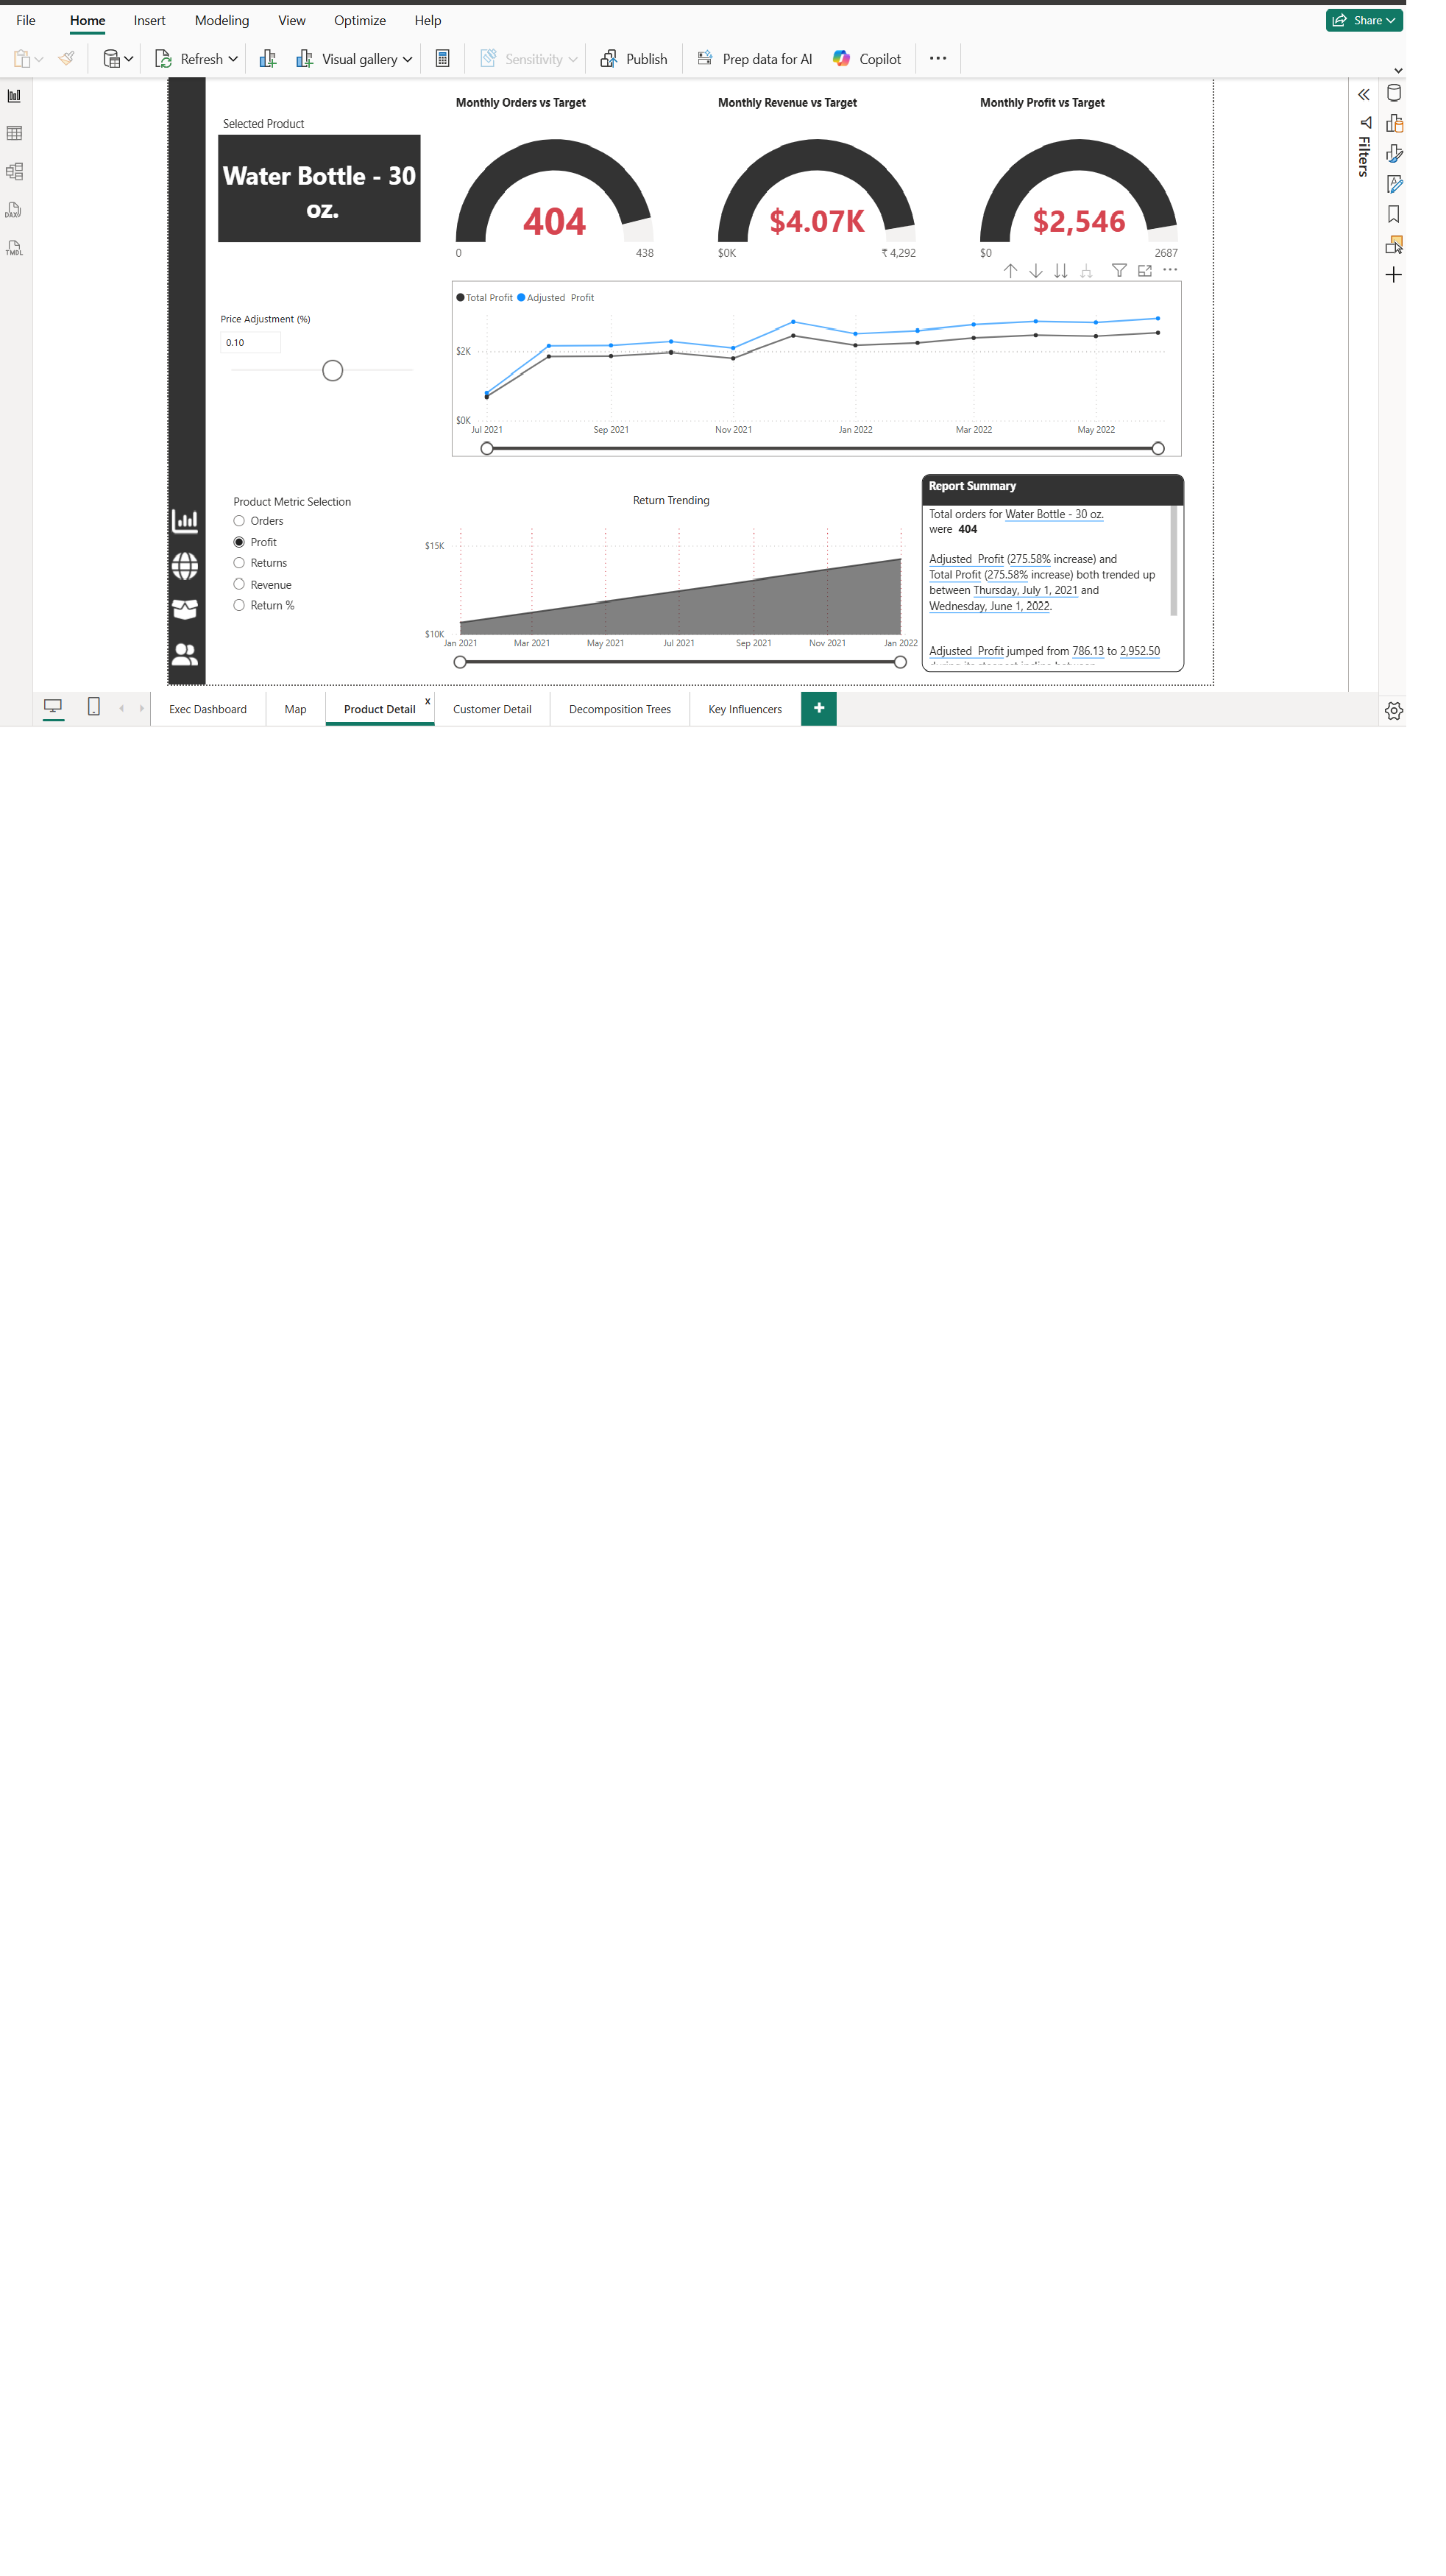

This screenshot's page, from the dashboard's own definition file:
{"tool":"powerbi","page":{"name":"Product Detail","canvas":[1280,720],"ordinal":2},"visuals":[{"type":"gauge","title":"Monthly Orders vs Target","fields":{"MaxValue":["Measure Table.Order Target"],"Y":["Measure Table.Total Orders"]},"box":[347.7,20.2,252.7,226],"z":0},{"type":"actionButton","box":[0,506.4,42.8,40.4],"z":0,"group":"g1"},{"type":"gauge","title":"Monthly Revenue vs Target","fields":{"MaxValue":["Measure Table.Revenue Target"],"Y":["Measure Table.Total Revenue"]},"box":[668.6,20.2,252.7,226],"z":1000},{"type":"actionButton","box":[0,559,42.8,40.4],"z":1000,"group":"g1"},{"type":"gauge","title":"Monthly Profit vs Target","fields":{"MaxValue":["Measure Table.profit Target"],"Y":["Measure Table.Total Profit"]},"box":[989.6,20.2,252.7,226],"z":2000},{"type":"actionButton","box":[0,611.6,42.8,40.4],"z":2000,"group":"g1"},{"type":"lineChart","title":"Profit Trending","fields":{"Category":["Calendar Lookup.Date Hierarchy.Start of Year","Calendar Lookup.Date Hierarchy.Start of Month","Calendar Lookup.Date Hierarchy.Start of Week","Calendar Lookup.Date Hierarchy.Date"],"Y":["Measure Table.Total Profit","Measure Table.Adjusted  Profit"]},"box":[347.7,240.9,894.5,209.2],"z":3000},{"type":"actionButton","box":[0,664.1,42.8,40.4],"z":3000,"group":"g1"},{"type":"areaChart","title":"Return Trending","fields":{"Category":["Calendar Lookup.Date Hierarchy.Start of Year","Calendar Lookup.Date Hierarchy.Start of Month","Calendar Lookup.Date Hierarchy.Start of Week","Calendar Lookup.Date Hierarchy.Date"],"Y":["Measure Table.Total Profit"]},"box":[308.8,492,614.6,212.1],"z":4000},{"type":"actionButton","box":[0,0,100,40],"z":5000},{"type":"shape","title":"Left Nav Background","box":[0,0,45.5,719.6],"z":6000},{"type":"card","fields":{"Values":["Min(Product Lookup.ProductName)"]},"box":[60.6,67.8,248.2,127],"z":7000},{"type":"textbox","box":[62,40.4,145.7,31.7],"z":8000},{"type":"group","id":"g1","title":"Navigation Buttons","box":[0,506.4,43.3,197.7],"z":9000},{"type":"slicer","fields":{"Values":["Price Adjustment (%).Price Adjustment (%)"]},"box":[50.5,272.7,271.5,147.6],"z":10000},{"type":"slicer","fields":{"Values":["Product Metric Selection.Product Metric Selection"]},"box":[66.4,487.7,242.1,165.1],"z":11000},{"type":"textbox","title":"Report Summary","box":[923.2,469.6,321.6,234.8],"z":12000}]}

Visuals, with their boxes on the page's 1280x720 design canvas (x1, y1, x2, y2). These are canvas units, not pixel positions in the 1446x2576 screenshot, which may show the page scaled, cropped or inside an application window:
"Monthly Orders vs Target" gauge: left=348, top=20, right=600, bottom=246
actionButton: left=0, top=506, right=43, bottom=547
"Monthly Revenue vs Target" gauge: left=669, top=20, right=921, bottom=246
actionButton: left=0, top=559, right=43, bottom=599
"Monthly Profit vs Target" gauge: left=990, top=20, right=1242, bottom=246
actionButton: left=0, top=612, right=43, bottom=652
"Profit Trending" lineChart: left=348, top=241, right=1242, bottom=450
actionButton: left=0, top=664, right=43, bottom=704
"Return Trending" areaChart: left=309, top=492, right=923, bottom=704
actionButton: left=0, top=0, right=100, bottom=40
"Left Nav Background" shape: left=0, top=0, right=46, bottom=720
card - Min(Product Lookup.ProductName): left=61, top=68, right=309, bottom=195
textbox: left=62, top=40, right=208, bottom=72
"Navigation Buttons" group: left=0, top=506, right=43, bottom=704
slicer - Price Adjustment (%).Price Adjustment (%): left=50, top=273, right=322, bottom=420
slicer - Product Metric Selection.Product Metric Selection: left=66, top=488, right=308, bottom=653
"Report Summary" textbox: left=923, top=470, right=1245, bottom=704
